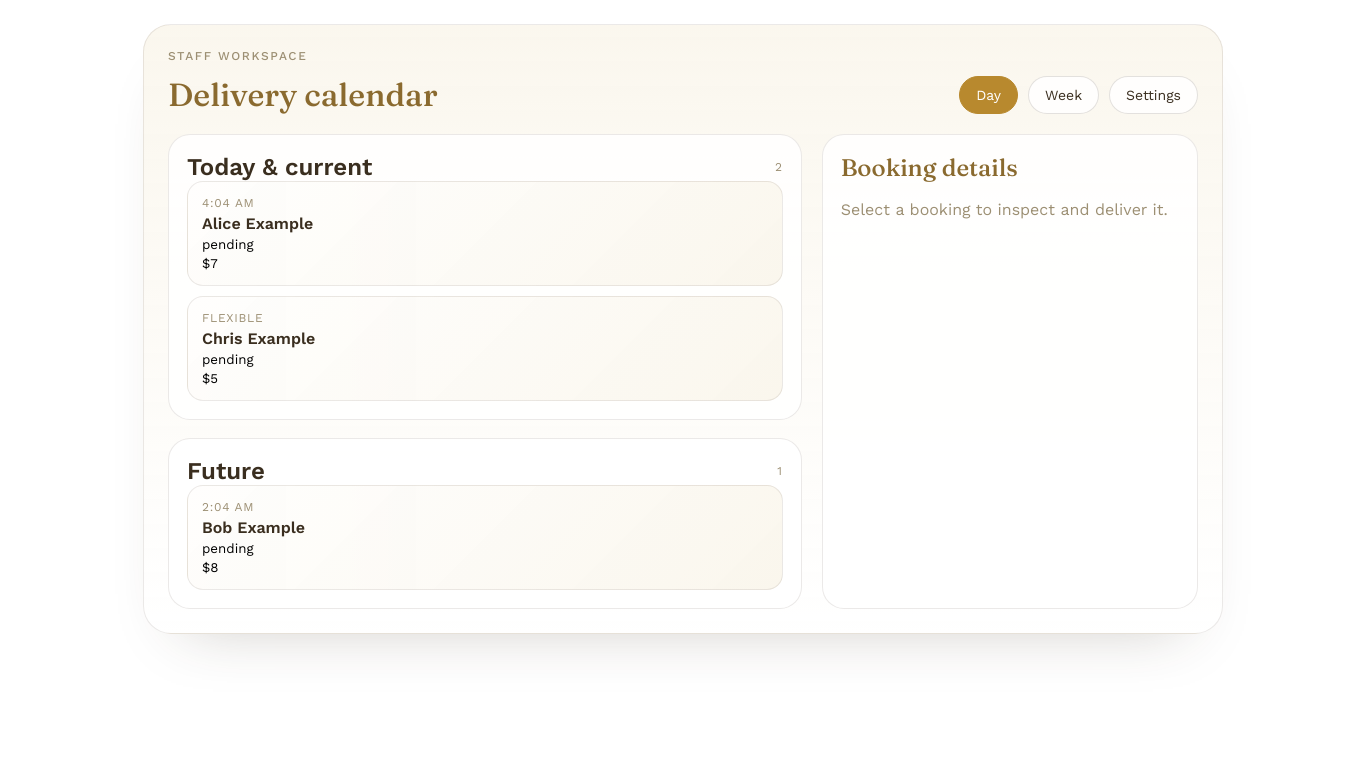
Test case: StaffBookings workspace › loads auth metadata in settings and saves changes
Click the button "Settings" at (1154, 95), box left=1109, top=76, right=1198, bottom=114
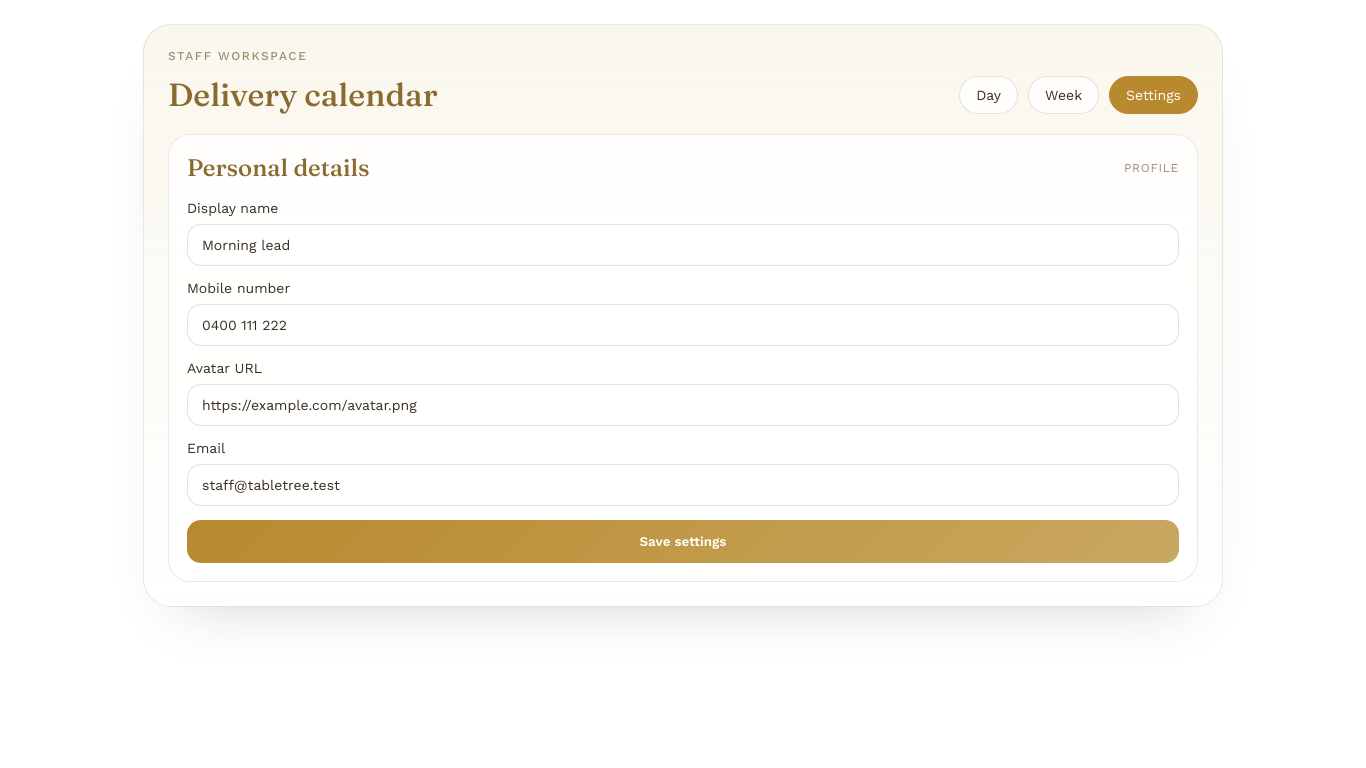
Expected: the field labelled "Display name" holds "Morning lead", left=187, top=224, right=1179, bottom=266
Expected: the field labelled "Avatar URL" holds "https://example.com/avatar.png", left=187, top=384, right=1179, bottom=426
Expected: the field labelled "Email" holds "staff@tabletree.test", left=187, top=464, right=1179, bottom=506
Replace the text in the field labelled "Mobile number" with "0400 999 888" at (683, 325), box left=187, top=304, right=1179, bottom=346
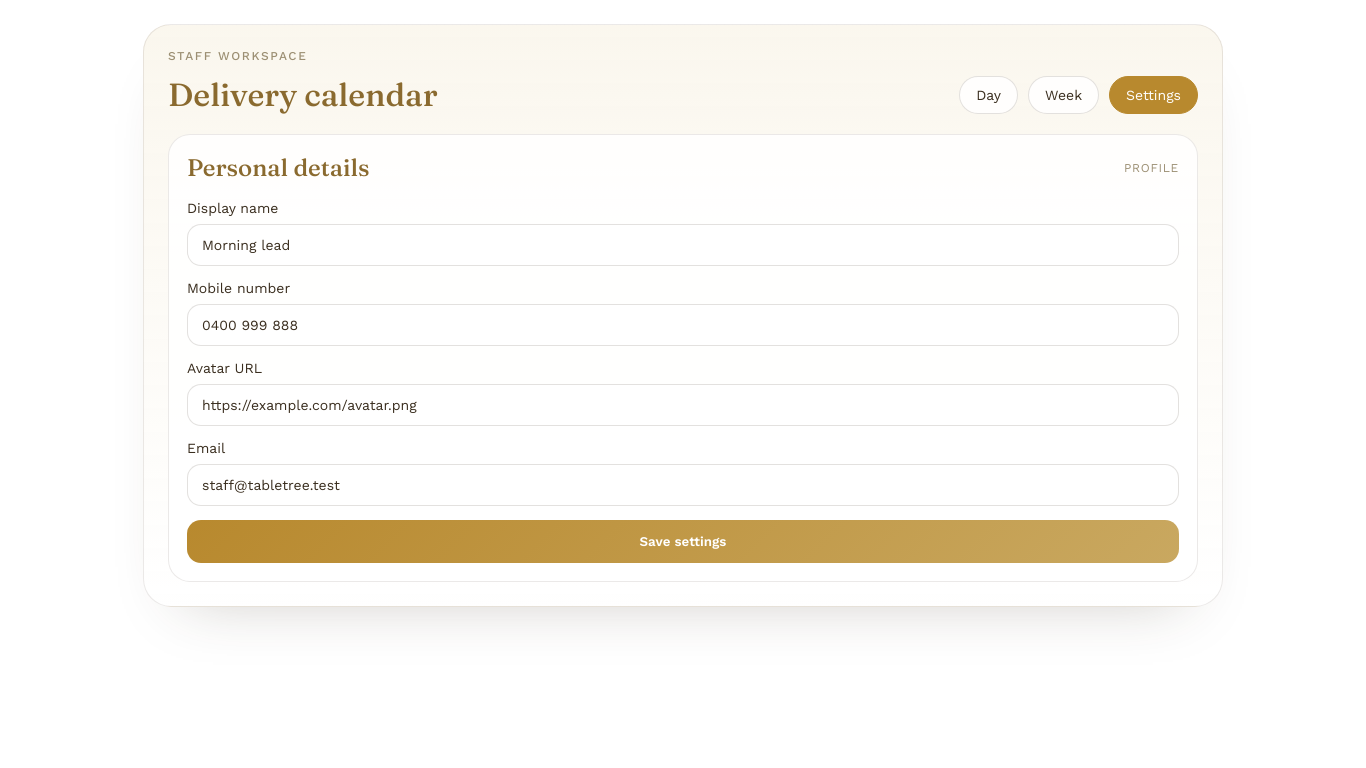
Click the button "Save settings" at (683, 542), box left=187, top=520, right=1179, bottom=563
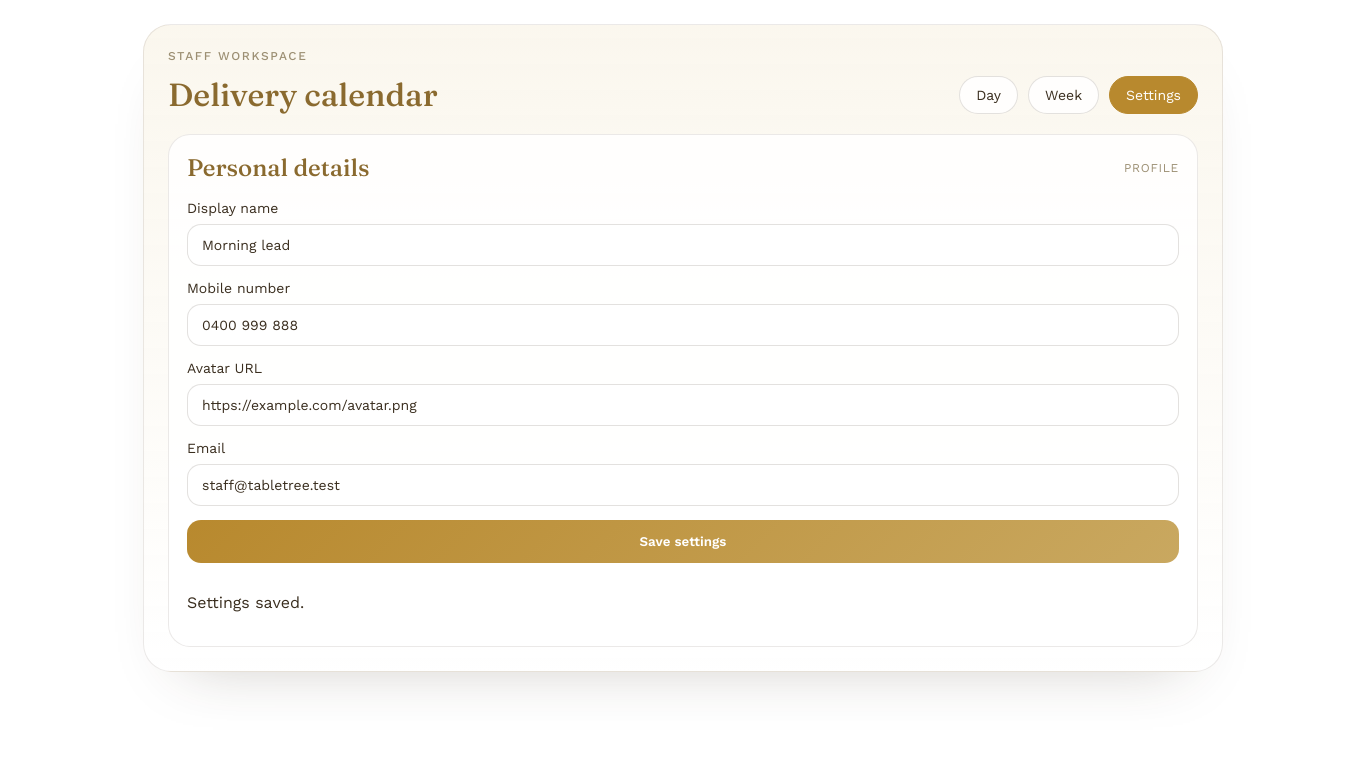
Expected: the text "Settings saved." is shown, left=187, top=593, right=304, bottom=612
